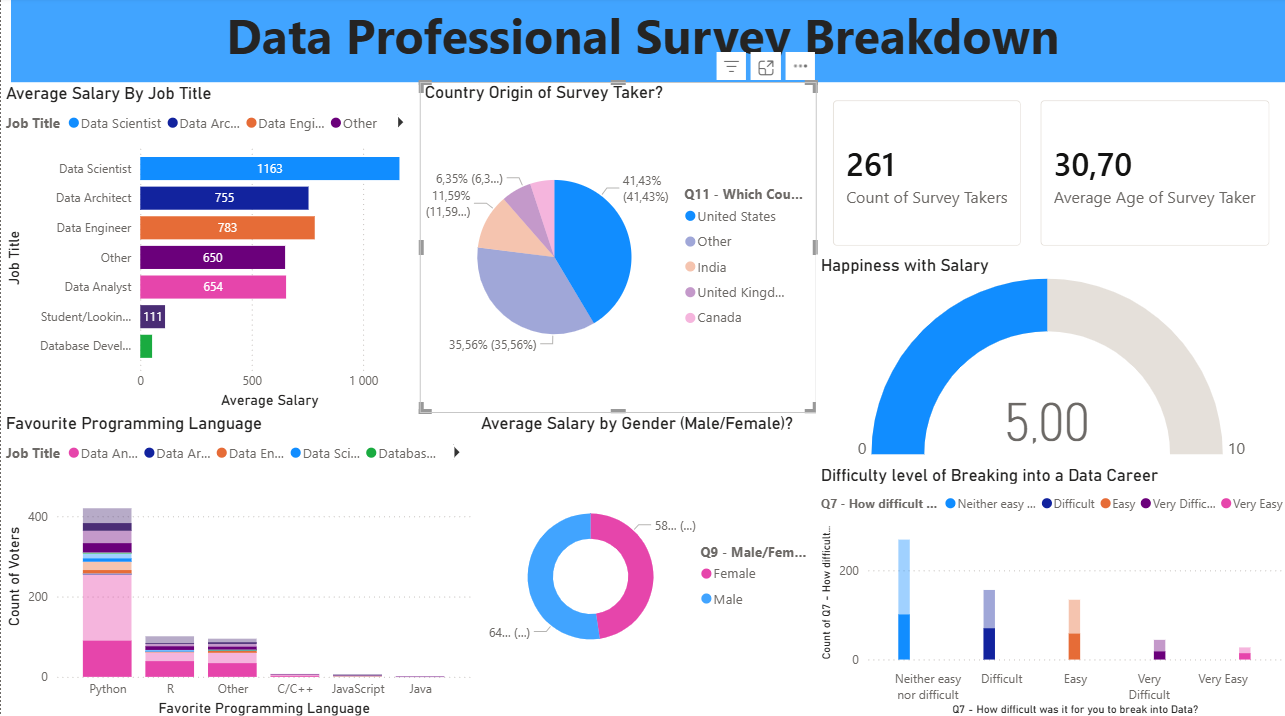

The page's visual inventory and layout, read from the dashboard file:
{"tool":"powerbi","page":{"name":"Page 1","canvas":[1280,720],"ordinal":0},"visuals":[{"type":"textbox","box":[9.6,0,1270.7,85.1],"z":0},{"type":"cardVisual","fields":{"Data":["Count(Data Professional Survey.Unique ID)"]},"box":[811.1,85.8,221.4,179.1],"z":1000},{"type":"cardVisual","fields":{"Data":["Avg(Data Professional Survey.Q10 - Current Age)"]},"box":[1017.7,85.5,262.3,179.6],"z":2000},{"type":"barChart","title":"Average Salary By Job Title","fields":{"Category":["Data Professional Survey.Q1 - Which Title Best Fits your Current Role?.1"],"Y":["Avg(Data Professional Survey.Average Salary)"],"Series":["Data Professional Survey.Q1 - Which Title Best Fits your Current Role?.1"]},"box":[0,85.8,416.7,328.4],"z":3000},{"type":"columnChart","title":"Favourite Programming Language","fields":{"Category":["Data Professional Survey.Q5 - Favorite Programming Language.1"],"Y":["CountNonNull(Data Professional Survey.Unique ID)"],"Series":["Data Professional Survey.Q1 - Which Title Best Fits your Current Role?.1"]},"box":[0,414.2,472.7,306],"z":4000},{"type":"pieChart","title":"Country Origin of Survey Taker?","fields":{"Y":["CountNonNull(Data Professional Survey.Q11 - Which Country do you live in?.1)"],"Category":["Data Professional Survey.Q11 - Which Country do you live in?.1"]},"box":[416.7,84.6,394.3,329.6],"z":5000},{"type":"gauge","title":"Happiness with Salary ","fields":{"Y":["Avg(Data Professional Survey.Q6 - How Happy are you in your Current Position with the following? (Salary))"],"MinValue":["Min(Data Professional Survey.Q6 - How Happy are you in your Current Position with the following? (Salary))1"],"MaxValue":["Max(Data Professional Survey.Q6 - How Happy are you in your Current Position with the following? (Salary))2"]},"box":[811.1,256.3,469,209],"z":6000},{"type":"clusteredColumnChart","title":"Difficulty level of Breaking into a Data Career","fields":{"Series":["Data Professional Survey.Q7 - How difficult was it for you to break into Data?"],"Y":["CountNonNull(Data Professional Survey.Q7 - How difficult was it for you to break into Data?)"],"Category":["Data Professional Survey.Q7 - How difficult was it for you to break into Data?"]},"box":[811.1,465.2,469,255],"z":7000},{"type":"donutChart","title":"Average Salary by Gender (Male/Female)?","fields":{"Category":["Data Professional Survey.Q9 - Male/Female?"],"Y":["Avg(Data Professional Survey.Average Salary)"]},"box":[472.7,414.2,338.4,306],"z":8000}]}

Visuals, with their boxes in screenshot pixels (x1, y1, x2, y2), scaled from the page's 1280x720 canvas onto the 1285x716 screenshot:
textbox: {"left": 10, "top": 0, "right": 1284, "bottom": 85}
cardVisual - Count(Data Professional Survey.Unique ID): {"left": 814, "top": 85, "right": 1037, "bottom": 263}
cardVisual - Avg(Data Professional Survey.Q10 - Current Age): {"left": 1022, "top": 85, "right": 1284, "bottom": 264}
"Average Salary By Job Title" barChart: {"left": 0, "top": 85, "right": 418, "bottom": 412}
"Favourite Programming Language" columnChart: {"left": 0, "top": 412, "right": 475, "bottom": 715}
"Country Origin of Survey Taker?" pieChart: {"left": 418, "top": 84, "right": 814, "bottom": 412}
"Happiness with Salary " gauge: {"left": 814, "top": 255, "right": 1284, "bottom": 463}
"Difficulty level of Breaking into a Data Career" clusteredColumnChart: {"left": 814, "top": 463, "right": 1284, "bottom": 715}
"Average Salary by Gender (Male/Female)?" donutChart: {"left": 475, "top": 412, "right": 814, "bottom": 715}
